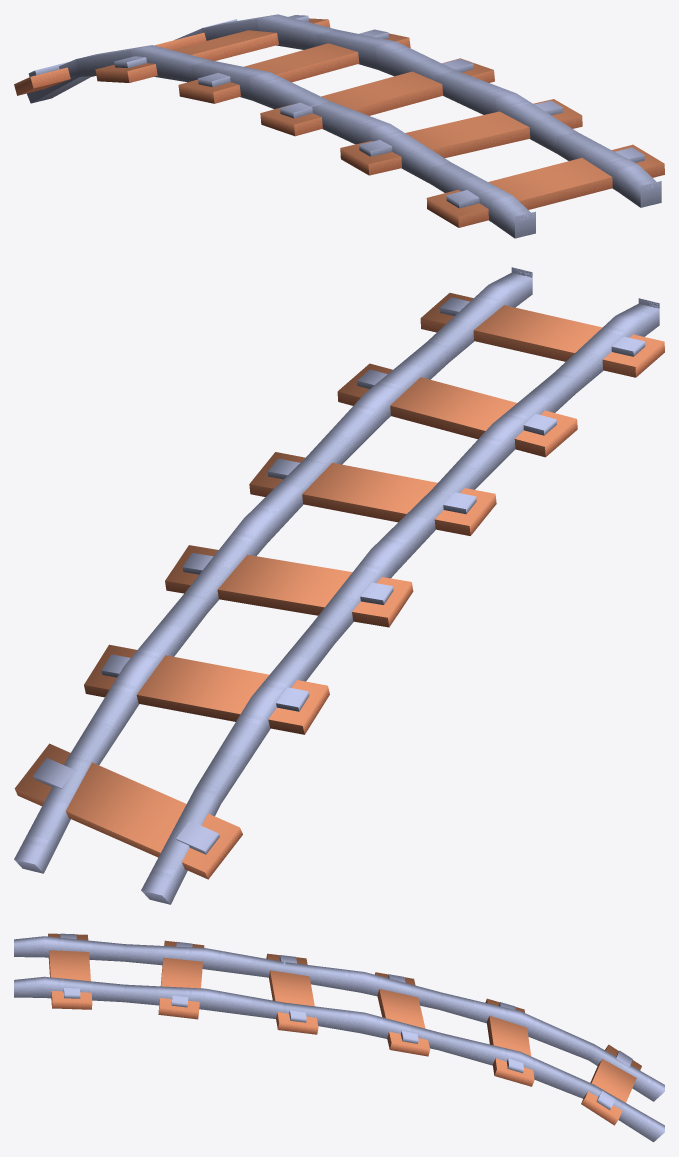
File: railroad-damaged-straight-hill-end.glb
The picture shows the model from 3 angles, top to bottom: view 1: azimuth 30°, elevation 25°; view 2: azimuth 150°, elevation 25°; view 3: azimuth 270°, elevation 25°; orthographic projection. The views are drawn at different scales.
Visible parts, largest first — view 1: railroad-damaged-straight-hill-end; view 2: railroad-damaged-straight-hill-end; view 3: railroad-damaged-straight-hill-end.
Part boxes in pixels (<box>): railroad-damaged-straight-hill-end: <box>14,14,664,238</box>; railroad-damaged-straight-hill-end: <box>14,267,664,904</box>; railroad-damaged-straight-hill-end: <box>14,933,664,1142</box>.
Size of the model in its own units: 1.03 by 1.1 by 4.07.
1 material, 1 textured.
